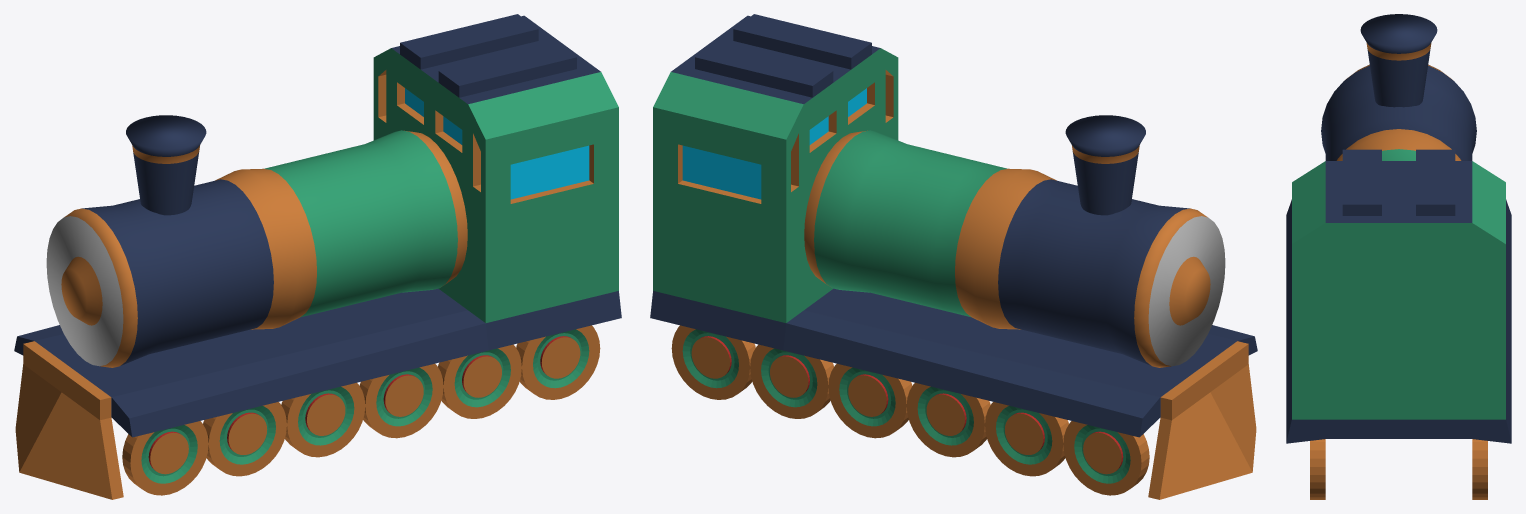
File: TrainModel03.fbx
The picture shows the model from 3 angles, left to right: view 1: azimuth 30°, elevation 25°; view 2: azimuth 150°, elevation 25°; view 3: azimuth 270°, elevation 25°; orthographic projection. The views are drawn at different scales.
Visible parts, largest first — view 1: TrainModel03; view 2: TrainModel03; view 3: TrainModel03.
Part boxes in pixels (x1,y1,x2,y2): TrainModel03: (14,14,621,499); TrainModel03: (650,14,1257,499); TrainModel03: (1286,14,1511,499).
Size of the model in its own units: 816 by 461 by 307.
